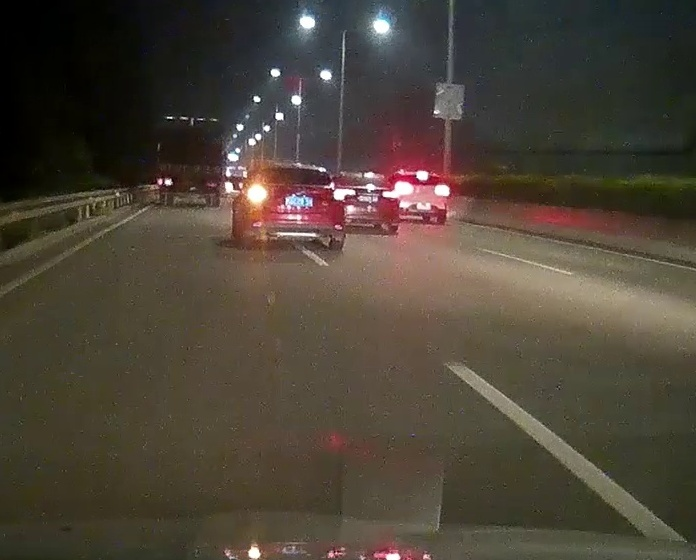L_light: (248, 188, 269, 202), (157, 178, 172, 186), (397, 185, 411, 193)
R_light: (329, 188, 344, 202), (435, 186, 447, 196), (206, 180, 219, 187)
T_light: (288, 168, 300, 172), (187, 121, 199, 125), (418, 175, 428, 178)
night-brake: (393, 171, 447, 223)
night-left: (247, 163, 345, 250), (156, 116, 225, 207)
